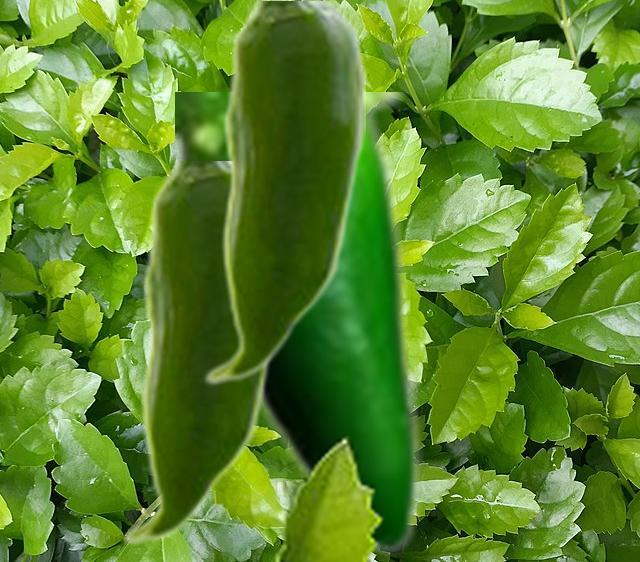green_chili: (175, 92, 422, 556), (201, 1, 364, 386), (120, 161, 278, 546)
